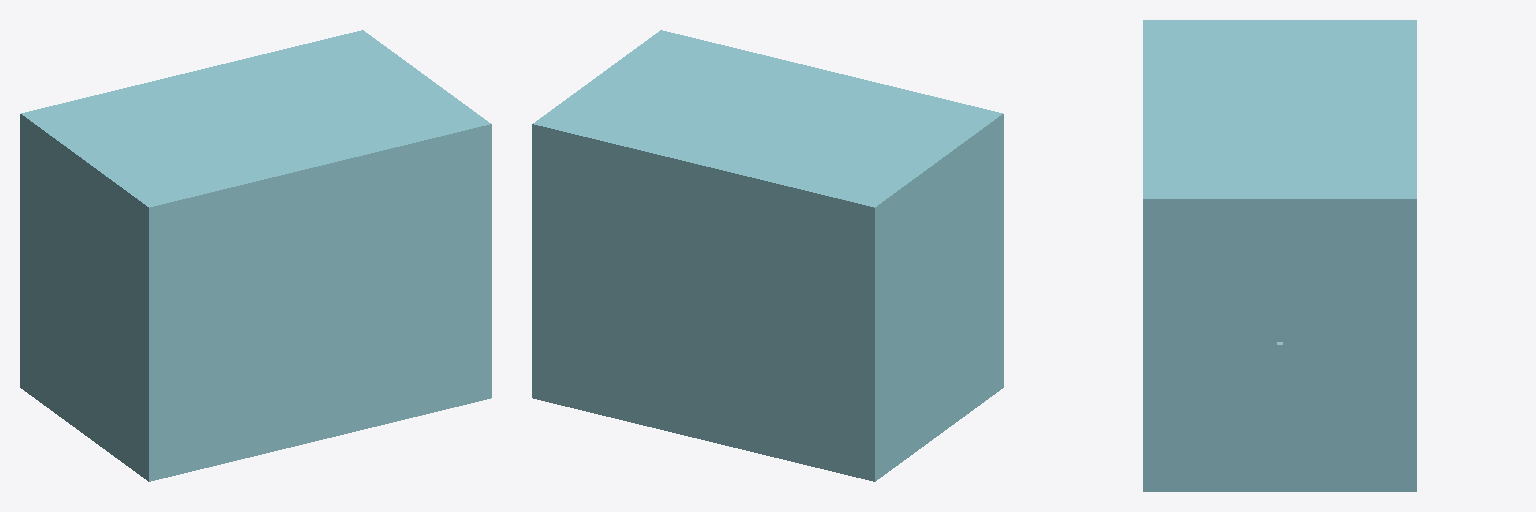
URDF robot description (cuboid_eraser_v7000):
<?xml version="1.0"?>
<robot name="cuboid_eraser_v7000">

  <link name="cuboid_eraser_v7000">
    <!-- Handle -->
    <visual>
      <origin xyz="0 0 0" rpy="0 0 0"/>
      <geometry>
        <box size="0.07036000999517274 0.04573146710581749 0.05386436996821986"/>
      </geometry>
      <material name="material">
        <color rgba="0.639 0.847 0.882 1.0"/>
      </material>
    </visual>
    <collision>
      <origin xyz="0 0 0" rpy="0 0 0"/>
      <geometry>
        <box size="0.07036000999517274 0.04573146710581749 0.05386436996821986"/>
      </geometry>
    </collision>

    <!-- Head -->
    <visual>
      <origin xyz="0.03568000499758637 0 0" rpy="0 0 0"/>
      <geometry>
        <box size="0.001 0.001 0.001"/>
      </geometry>
      <material name="material">
        <color rgba="0.639 0.847 0.882 1.0"/>
      </material>
    </visual>
    <collision>
      <origin xyz="0.03568000499758637 0 0" rpy="0 0 0"/>
      <geometry>
        <box size="0.001 0.001 0.001"/>
      </geometry>
    </collision>

    <inertial>
      <density value="400.0"/>
    </inertial>
  </link>

</robot>

--- What the picture shows (computed from the rendered views, not written in the file) ---
Views: 3 orthographic renders of the robot side by side, from view 1: azimuth 30°, elevation 25°; view 2: azimuth 150°, elevation 25°; view 3: azimuth 270°, elevation 25°.
Robot: cuboid_eraser_v7000 — 1 links, 0 joints (none); root link cuboid_eraser_v7000; default pose: all joints at 0.
Links seen in each view (by area): view 1: cuboid_eraser_v7000; view 2: cuboid_eraser_v7000; view 3: cuboid_eraser_v7000.
Boxes of the visible links, box(x1,y1,x2,y2) form: cuboid_eraser_v7000: box(20, 30, 491, 481); cuboid_eraser_v7000: box(532, 30, 1003, 481); cuboid_eraser_v7000: box(1143, 20, 1416, 491).
Bounding box of the posed robot: 0.0714 × 0.0457 × 0.0539 m (x, y, z).
Geometry: primitives only (box / cylinder / sphere), no mesh files.
